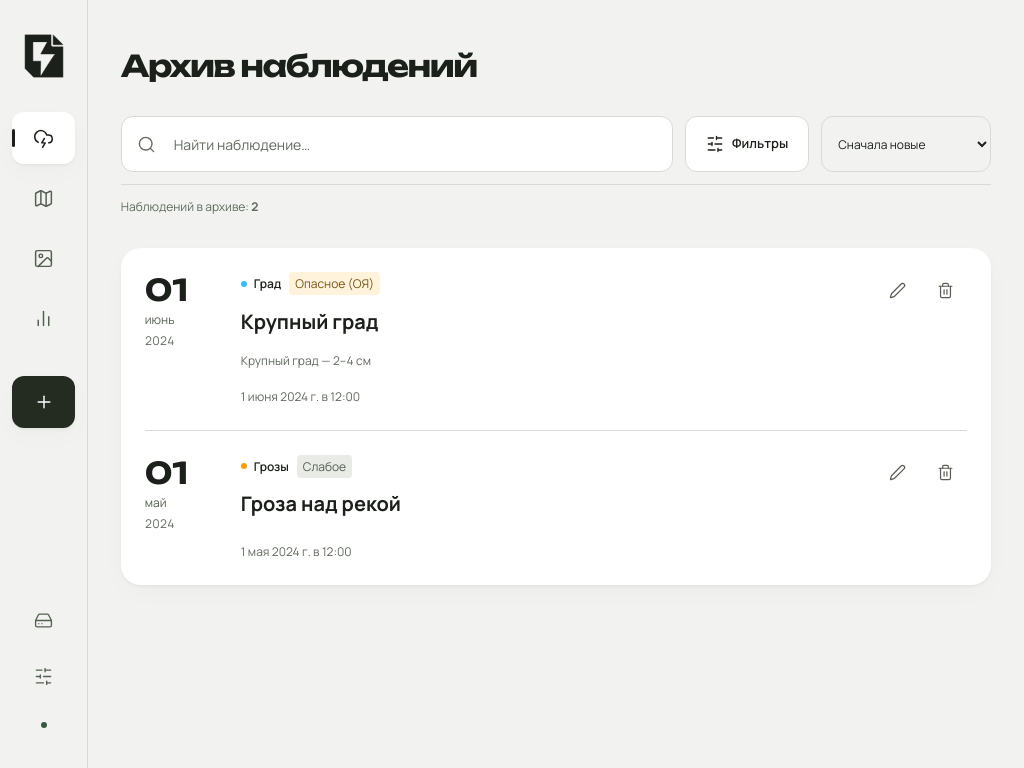
Test case: search and filters › shows an empty result state that can be cleared
This screenshot has width=1024, height=768.
Type "торнадо" into the search field named "Поиск по архиву".
click(397, 144); type("торнадо")  # box [121,116,673,172]
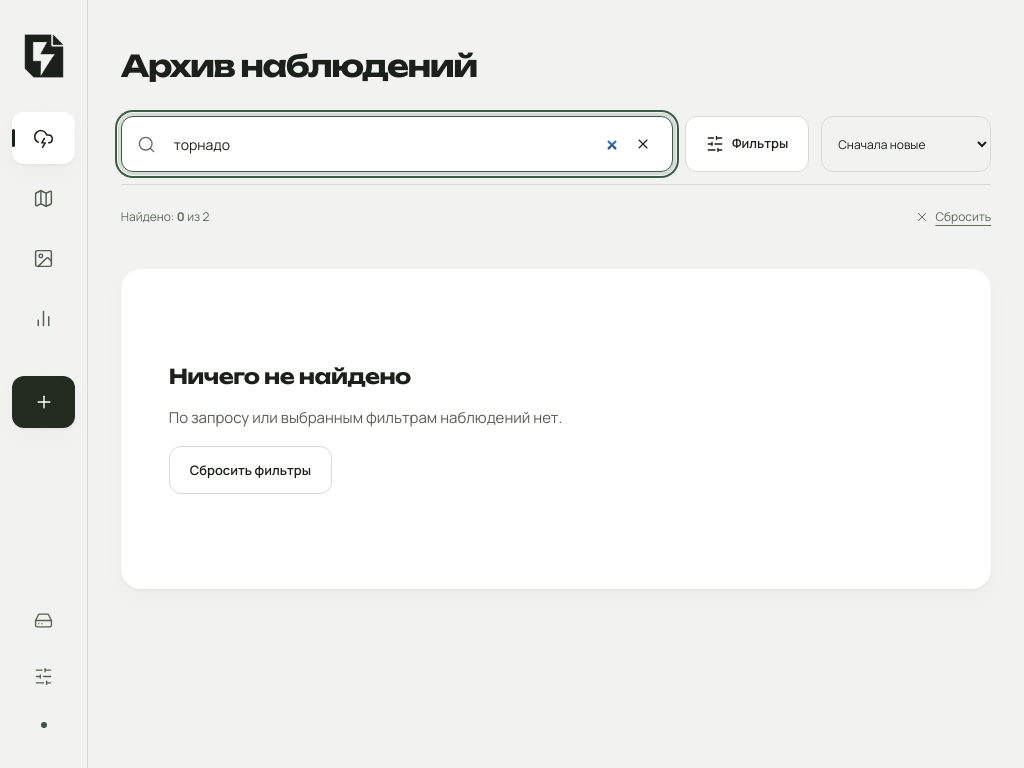
Expected: the heading "Ничего не найдено" is shown, [169,364,411,390]
Click the button "Сбросить фильтры".
click(250, 470)  # box [169,446,332,494]
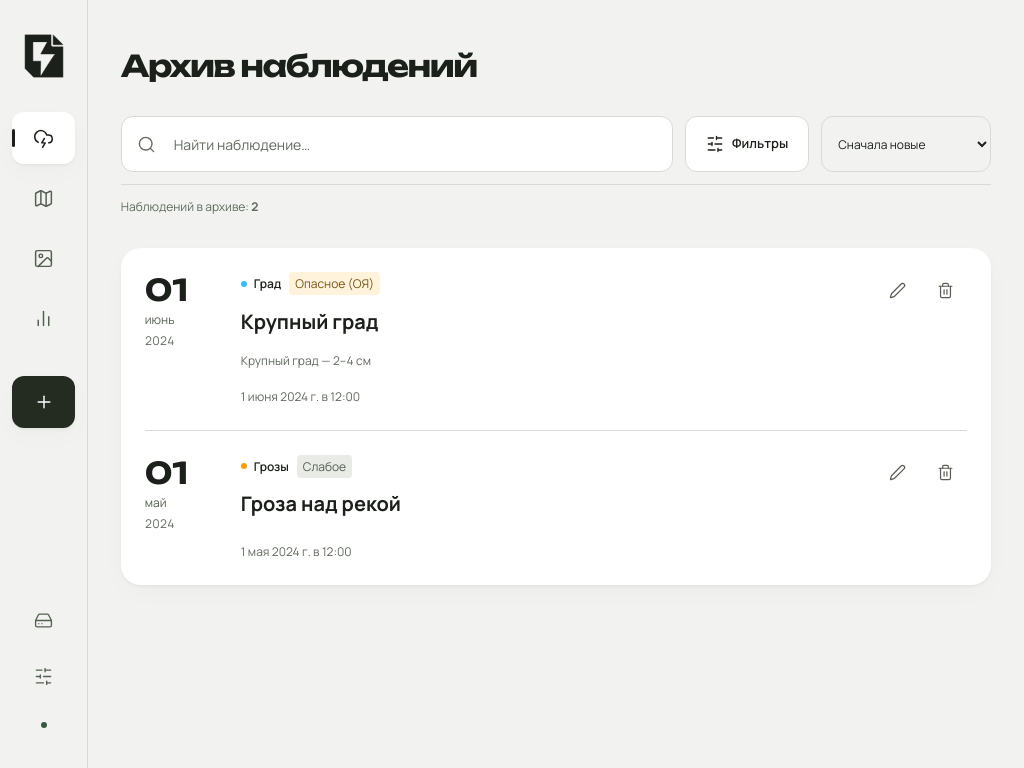
Expected: the button "Гроза над рекой" is shown, [241,482,401,526]
